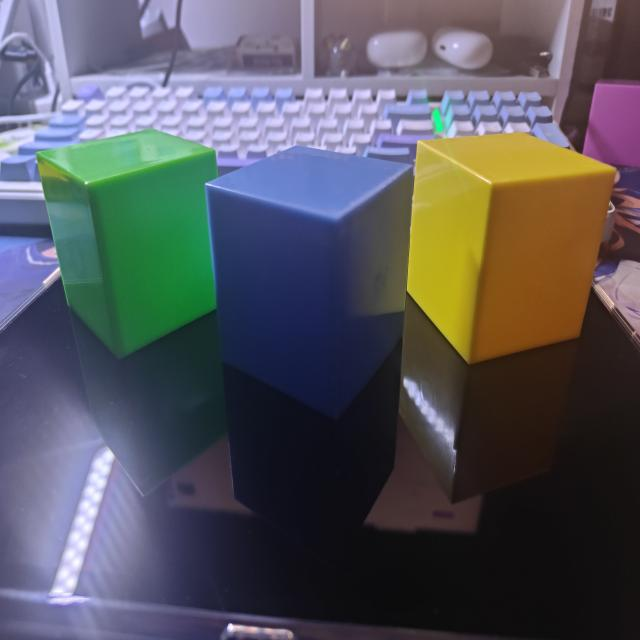blue: (205, 141, 412, 420)
green: (37, 130, 219, 363)
yellow: (405, 129, 617, 364)
